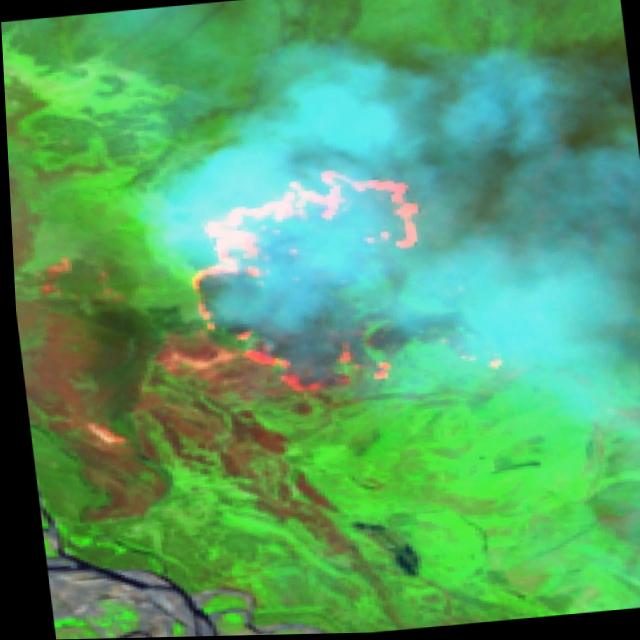fire: (164, 153, 458, 414)
